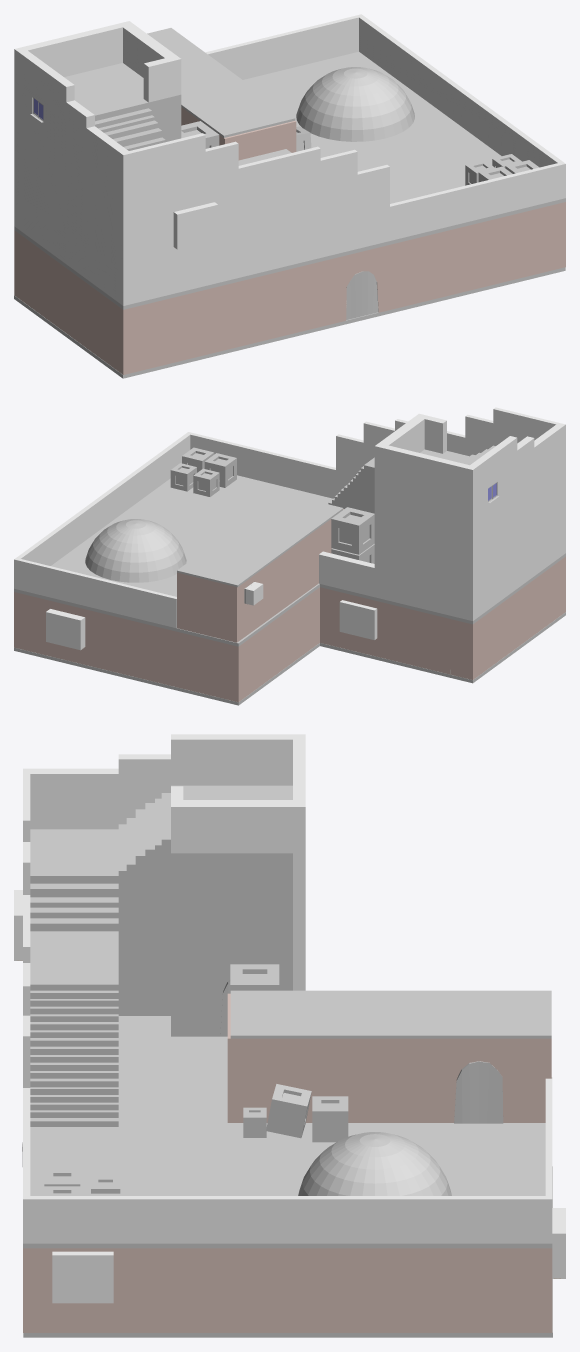
Rendered from 2doorbuilding.fbx.
The picture shows the model from 3 angles, top to bottom: view 1: azimuth 30°, elevation 25°; view 2: azimuth 150°, elevation 25°; view 3: azimuth 270°, elevation 25°; orthographic projection. The views are drawn at different scales.
Visible parts, largest first — view 1: Cube.022, Room.002, Cube.018, Room, Sphere, Cube.025, Cube.021, Cube.023, Room.003, CTRL_Hole.004, Cube.027, Cube.026; view 2: Cube.022, Room, Room.002, Cube.018, Room.003, Cube.025, Sphere, Cube.026, Cube.023, CTRL_Hole.003, CTRL_Hole.001, Cube.033 (+5 smaller); view 3: Cube.022, Cube.018, Room, Cube.023, Room.003, Cube.021, Cube.025, Sphere, CTRL_Hole, Cube.005, Cube.029, Cube.030 (+3 smaller).
Boxes of the visible parts, x1,y1,x2,y2 form: Cube.022: (14, 14, 565, 305); Room.002: (14, 230, 302, 374); Cube.018: (14, 52, 565, 378); Room: (302, 202, 565, 331); Sphere: (296, 67, 414, 141); Cube.025: (147, 28, 295, 137); Cube.021: (64, 63, 181, 141); Cube.023: (95, 108, 291, 165); Room.003: (181, 107, 296, 160); CTRL_Hole.004: (173, 202, 218, 249); Cube.027: (346, 271, 378, 319); Cube.026: (181, 121, 219, 148); Cube.022: (14, 407, 565, 628); Room: (14, 587, 319, 702); Room.002: (320, 556, 565, 679); Cube.018: (14, 475, 565, 705); Room.003: (177, 509, 343, 642); Cube.025: (177, 493, 343, 587); Sphere: (85, 519, 186, 582); Cube.026: (331, 507, 374, 554); Cube.023: (328, 445, 495, 513); CTRL_Hole.003: (46, 609, 85, 650); CTRL_Hole.001: (339, 600, 377, 640); Cube.033: (204, 453, 236, 487); Cube.022: (23, 734, 552, 1243); Cube.018: (23, 1016, 552, 1337); Room: (23, 1248, 552, 1332); Cube.023: (30, 793, 170, 1126); Room.003: (227, 993, 551, 1122); Cube.021: (171, 785, 292, 1036); Cube.025: (230, 990, 551, 1038); Sphere: (298, 1132, 451, 1195); CTRL_Hole: (52, 1252, 113, 1303); Cube.005: (454, 1061, 503, 1123); Cube.029: (266, 1084, 311, 1138); Cube.030: (312, 1096, 348, 1142).
Size of the model in its own units: 2752 by 1460 by 2256.
